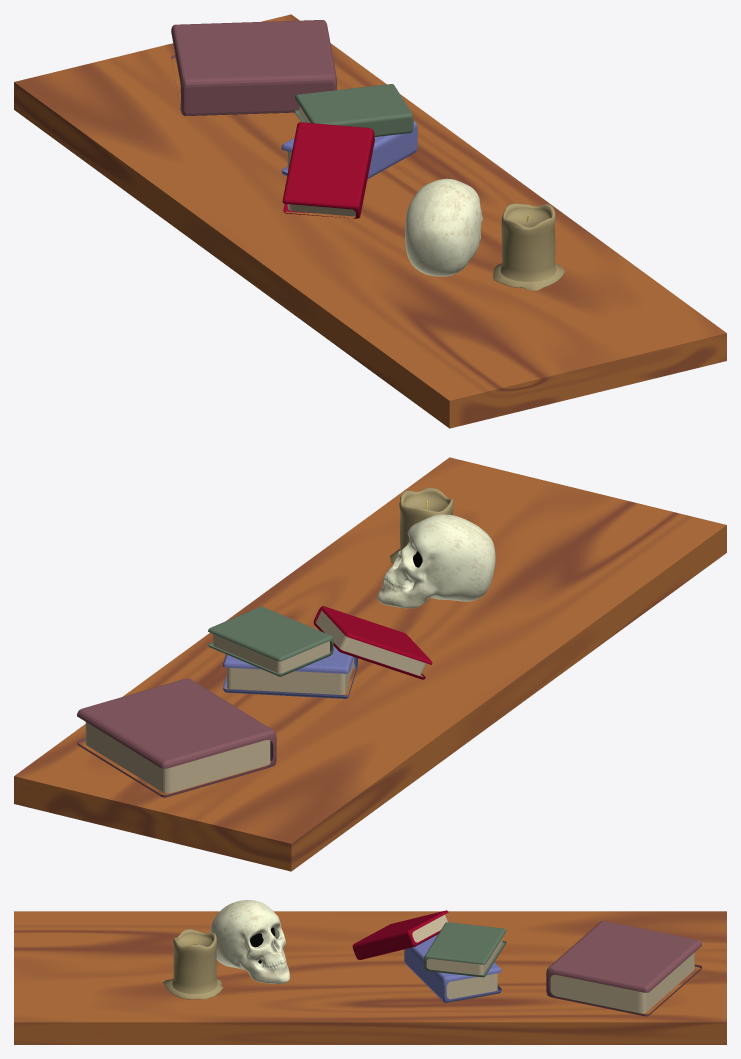
File: wood_table.obj.import.gltf
3 views of the same model, one above another, from view 1: azimuth 30°, elevation 25°; view 2: azimuth 150°, elevation 25°; view 3: azimuth 270°, elevation 25° (orthographic). The views are drawn at different scales.
Visible parts, largest first — view 1: Cube, Cube.009, Cube.002, skull_ld., Candle 1, Cube.007, Cube.008; view 2: Cube, Cube.009, skull_ld., Cube.005, Cube.007, Cube.004, Cube.002, Candle 1, Cube.008, Cube.006, Cube.003; view 3: Cube, Cube.009, skull_ld., Candle 1, Cube.005, Cube.007, Cube.002, Cube.008, Cube.004, Cube.003, Cube.006.
Part boxes in pixels (x1=…): Cube: x1=14, y1=14, x2=726, y2=428; Cube.009: x1=171, y1=20, x2=336, y2=116; Cube.002: x1=282, y1=122, x2=374, y2=218; skull_ld.: x1=405, y1=178, x2=482, y2=276; Candle 1: x1=493, y1=203, x2=564, y2=290; Cube.007: x1=295, y1=84, x2=413, y2=136; Cube.008: x1=281, y1=121, x2=417, y2=178; Cube: x1=14, y1=457, x2=726, y2=871; Cube.009: x1=77, y1=678, x2=276, y2=797; skull_ld.: x1=377, y1=514, x2=495, y2=608; Cube.005: x1=85, y1=722, x2=270, y2=793; Cube.007: x1=208, y1=606, x2=333, y2=676; Cube.004: x1=227, y1=658, x2=353, y2=694; Cube.002: x1=313, y1=606, x2=432, y2=679; Candle 1: x1=390, y1=487, x2=453, y2=563; Cube.008: x1=223, y1=646, x2=357, y2=698; Cube.006: x1=316, y1=610, x2=426, y2=675; Cube.003: x1=213, y1=634, x2=329, y2=673; Cube: x1=14, y1=911, x2=726, y2=1044; Cube.009: x1=546, y1=921, x2=701, y2=1016; skull_ld.: x1=210, y1=900, x2=289, y2=983; Candle 1: x1=163, y1=929, x2=223, y2=999; Cube.005: x1=551, y1=952, x2=694, y2=1013; Cube.007: x1=424, y1=922, x2=506, y2=977; Cube.002: x1=352, y1=910, x2=448, y2=959; Cube.008: x1=404, y1=934, x2=501, y2=1002; Cube.004: x1=446, y1=973, x2=497, y2=999; Cube.003: x1=427, y1=938, x2=502, y2=974; Cube.006: x1=412, y1=914, x2=447, y2=942.
Size of the model in its own units: 2 by 0.7317 by 5.44.
Materials: 11 (2 with a texture image).
